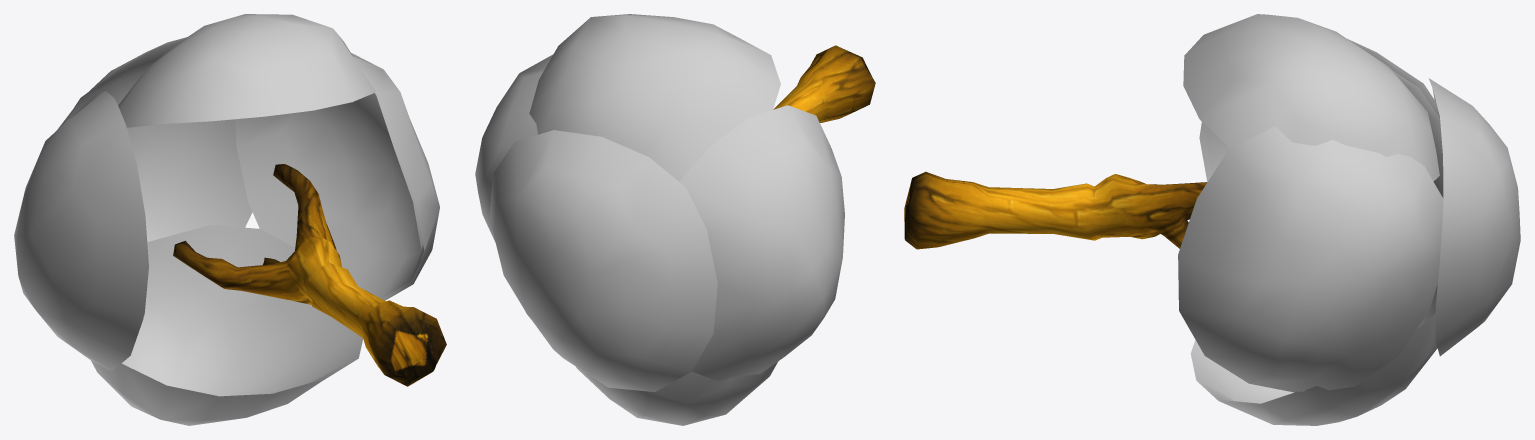
The model's file is tree01.fbx.
3 views of the same model, side by side, from view 1: azimuth 30°, elevation 25°; view 2: azimuth 150°, elevation 25°; view 3: azimuth 270°, elevation 25° (orthographic). The views are drawn at different scales.
Visible parts, largest first — view 1: tree01; view 2: tree01; view 3: tree01.
Part boxes in pixels (left/top/right/bottom): tree01: left=14, top=14, right=446, bottom=425; tree01: left=475, top=14, right=875, bottom=425; tree01: left=904, top=14, right=1520, bottom=425.
Bounding box in the file's own units: 299 × 297 × 416.
